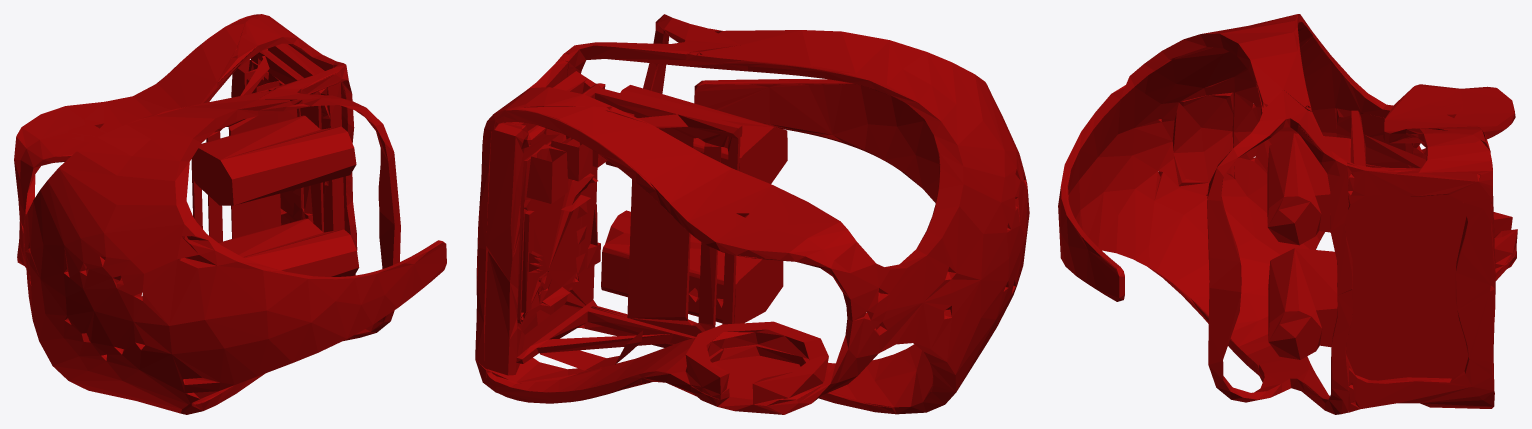
The model's file is head.obj.
3 renders of one model, left to right at view 1: azimuth 30°, elevation 25°; view 2: azimuth 150°, elevation 25°; view 3: azimuth 270°, elevation 25°, orthographic. The views are drawn at different scales.
Visible parts, largest first — view 1: head; view 2: head; view 3: head.
Part boxes in pixels (bbox=[...]): head: bbox=[14, 14, 446, 414]; head: bbox=[475, 14, 1029, 414]; head: bbox=[1058, 14, 1517, 414].
Size of the model in its own units: 0.2162 by 0.1784 by 0.2394.
